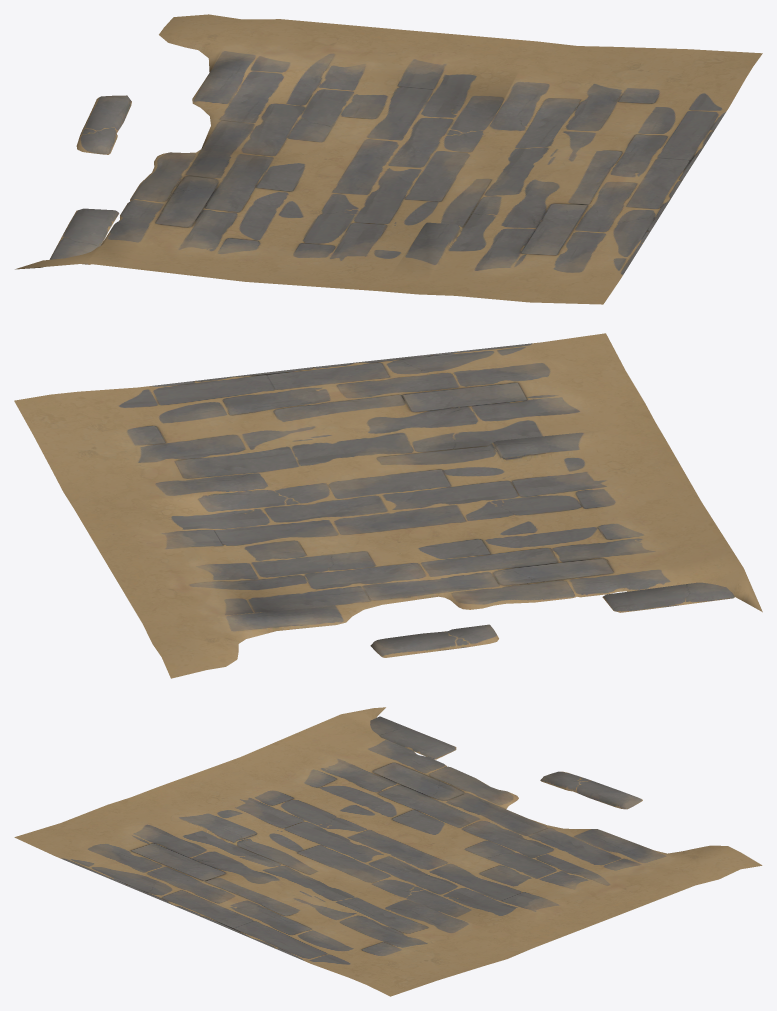
File: SM_ENV_LKNVLD_Ground_Right_RoadToGate_01.FBX
3 views of the same model, one above another, from view 1: azimuth 30°, elevation 25°; view 2: azimuth 150°, elevation 25°; view 3: azimuth 270°, elevation 25° (orthographic). The views are drawn at different scales.
Visible parts, largest first — view 1: SM_ENV_LKNVLD_Ground_Right_RoadToGate_01; view 2: SM_ENV_LKNVLD_Ground_Right_RoadToGate_01; view 3: SM_ENV_LKNVLD_Ground_Right_RoadToGate_01.
Part boxes in pixels (x1,y1,x2,y2): SM_ENV_LKNVLD_Ground_Right_RoadToGate_01: [15, 14, 762, 304]; SM_ENV_LKNVLD_Ground_Right_RoadToGate_01: [14, 333, 762, 678]; SM_ENV_LKNVLD_Ground_Right_RoadToGate_01: [14, 707, 762, 996].
Bounding box in the file's own units: 1072 × 45.42 × 1072.
